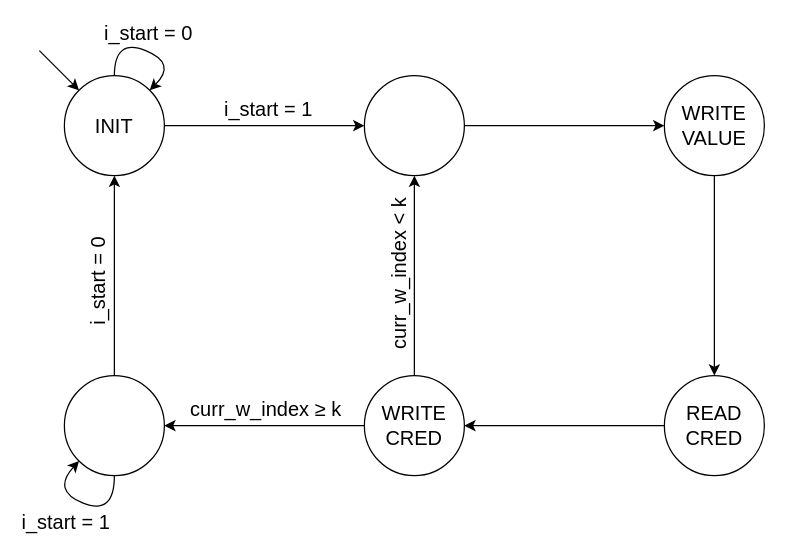
Image size: 788x555. Some labels were removed from this diagram. Each missing label, with the centre of its shape:
DONE: pixel 113 425
READ VALUE: pixel 413 125
